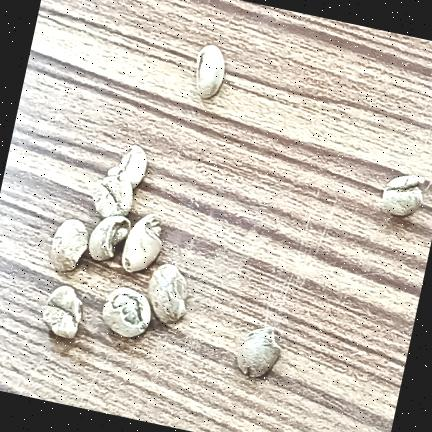broken: (147, 264, 188, 323), (103, 287, 151, 337), (122, 214, 162, 273), (237, 326, 281, 377), (42, 286, 82, 338), (50, 219, 88, 271), (89, 216, 131, 261), (382, 175, 425, 216), (93, 176, 133, 218), (108, 145, 147, 188), (196, 45, 225, 99)
